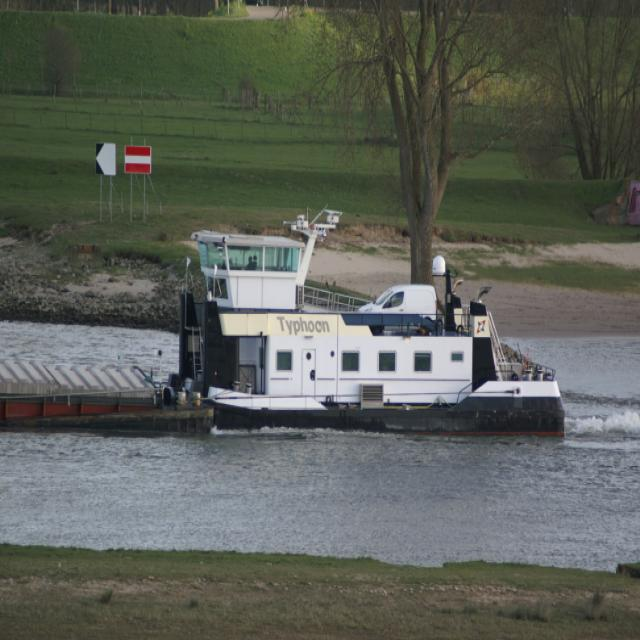tugboat: (170, 202, 574, 452)
